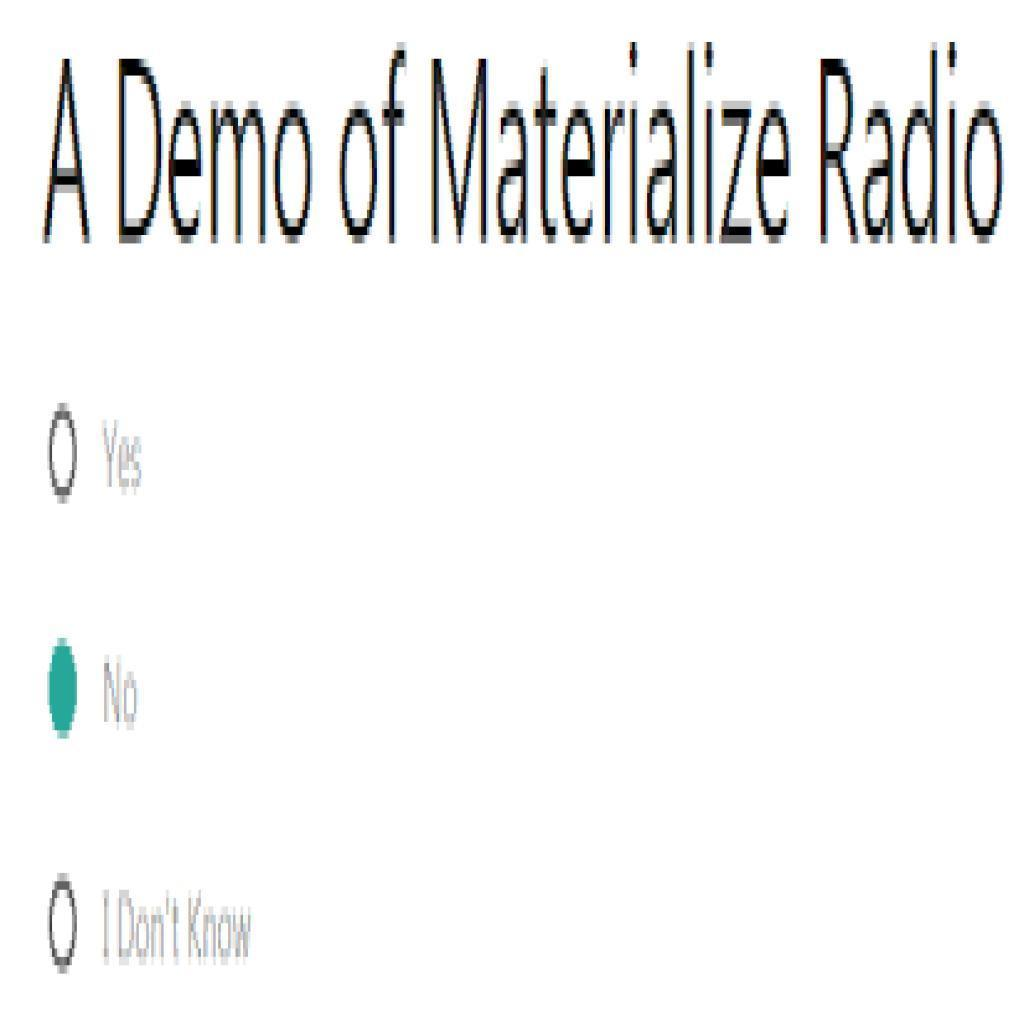label: (41, 32, 1009, 260), (92, 880, 255, 966), (99, 417, 154, 502), (102, 660, 149, 729)
radio: (47, 877, 83, 981), (49, 636, 81, 745), (49, 401, 79, 502)
